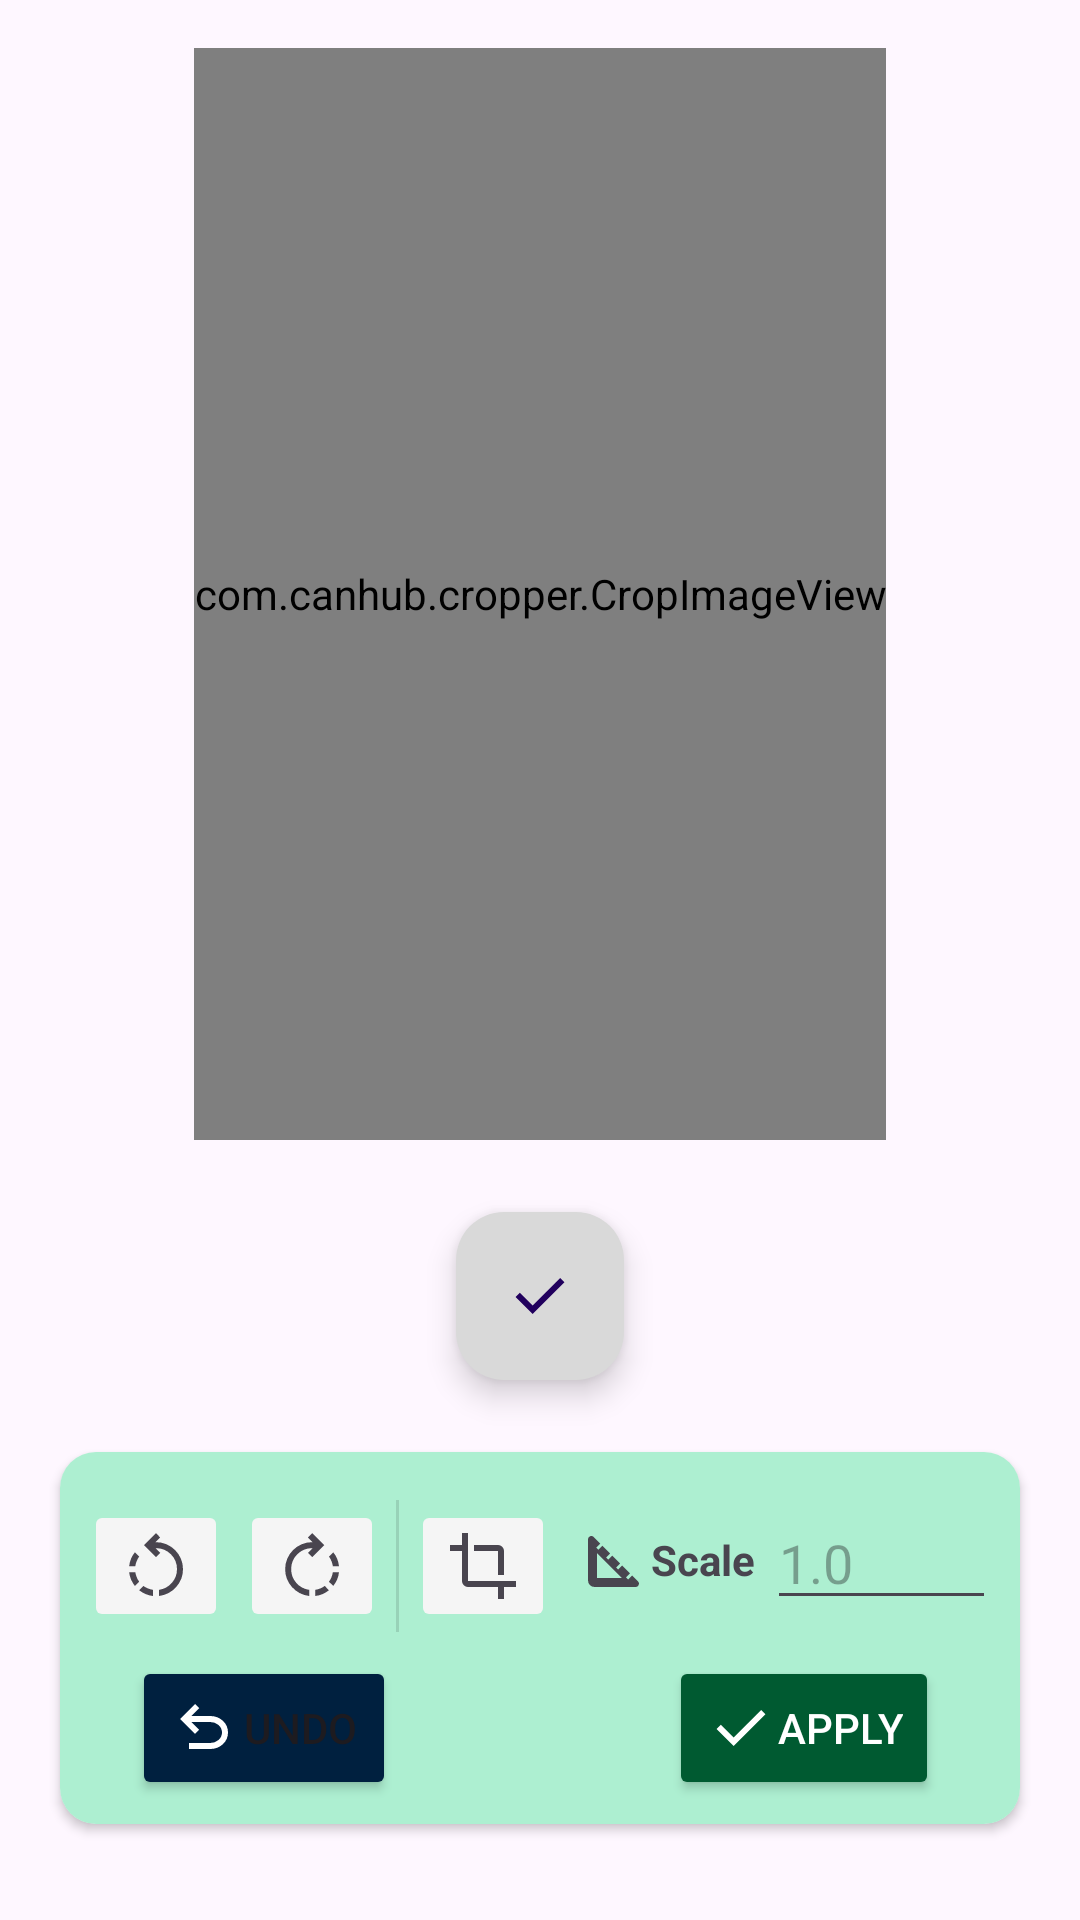

Locate icon controls on the screen. Image size 1080*1920, boxes as (x1, y1, x2, y2).
crop: (423, 1518, 543, 1614)
rotate left: (96, 1518, 216, 1614)
rotate right: (252, 1518, 372, 1614)
